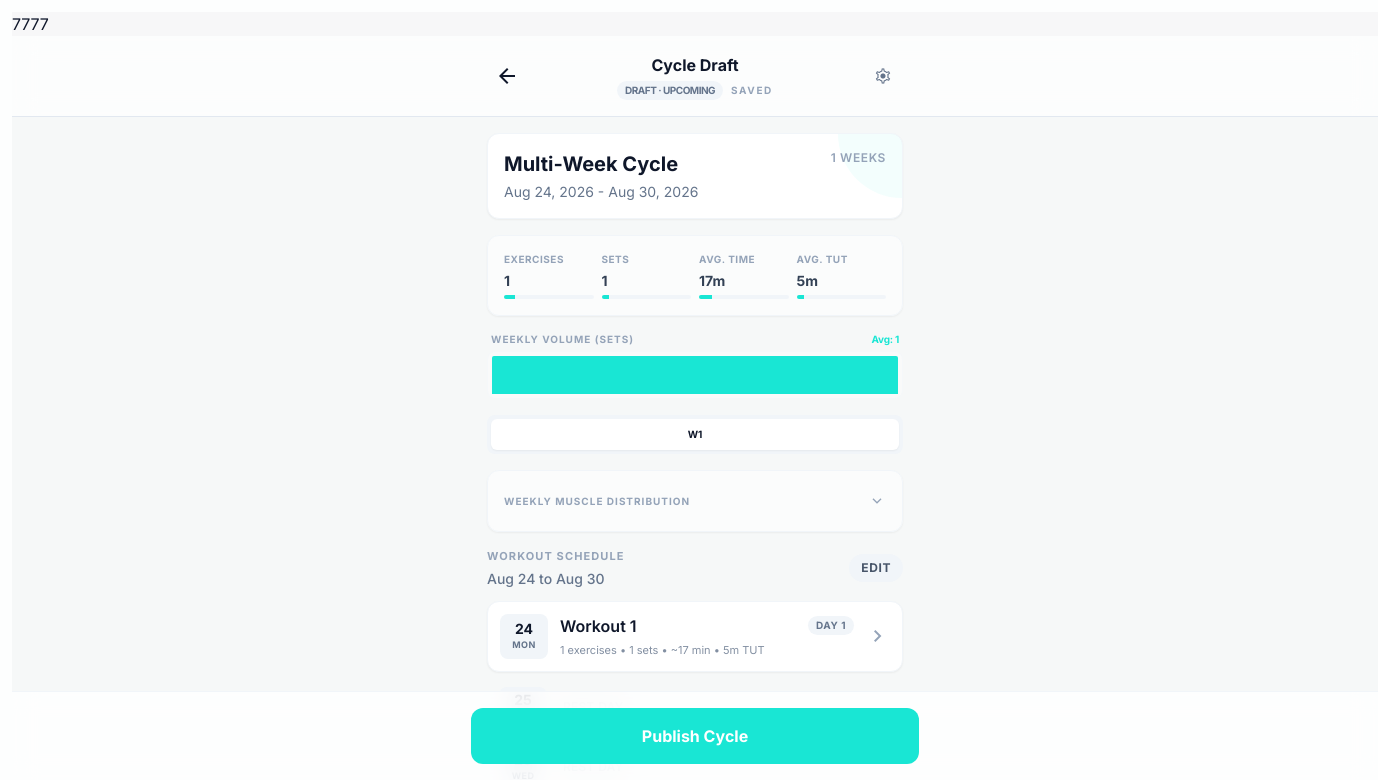
Test case: ManualBuilderMulti workout terminal-action barrier › Publish blocks on a workout conflict, preserves local content, and reports the error
Click the button "Publish Cycle". click: (695, 736)
box: [471, 708, 919, 764]
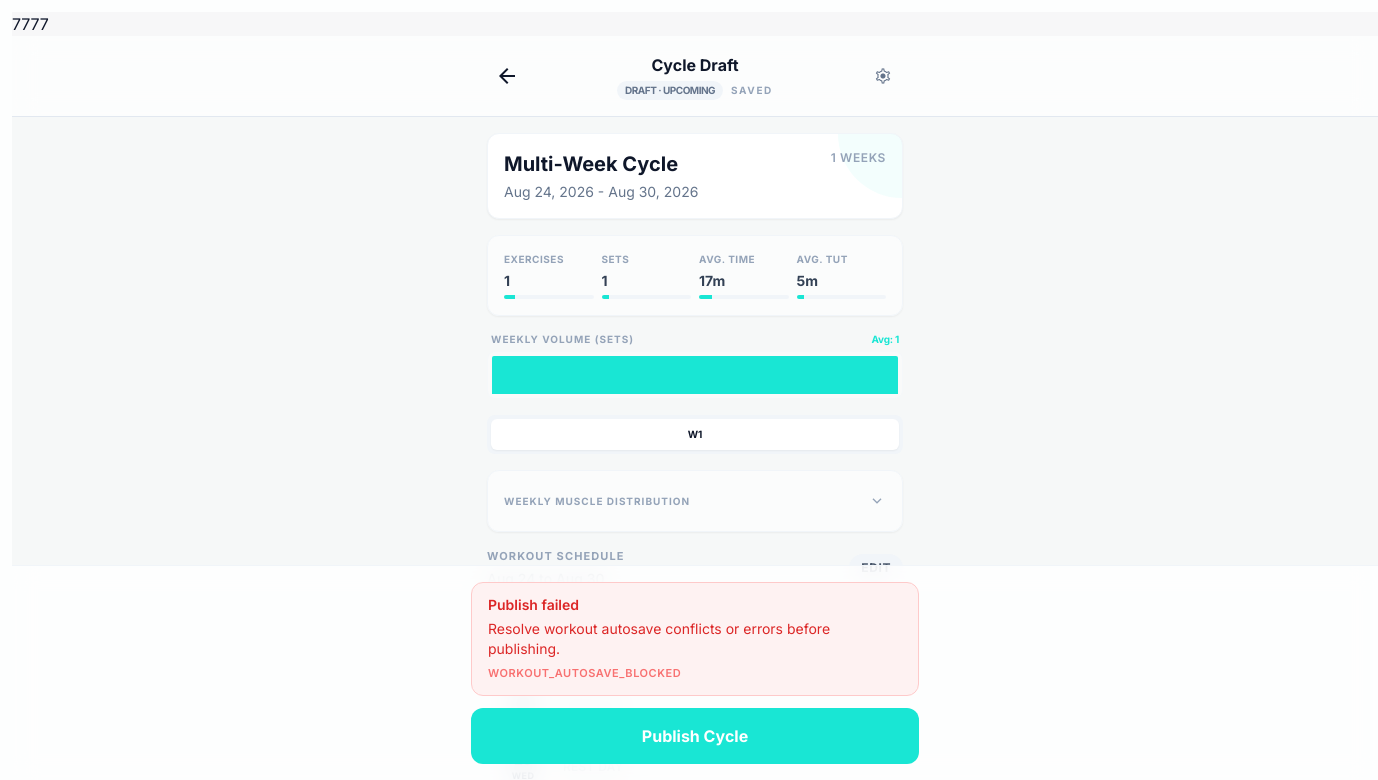
Expected: the text with test id "local-workout-reps" reads "77", [12, 14, 30, 34]
Result: the text "Resolve workout autosave conflicts or errors before publishing." is shown at [488, 620, 830, 657]
